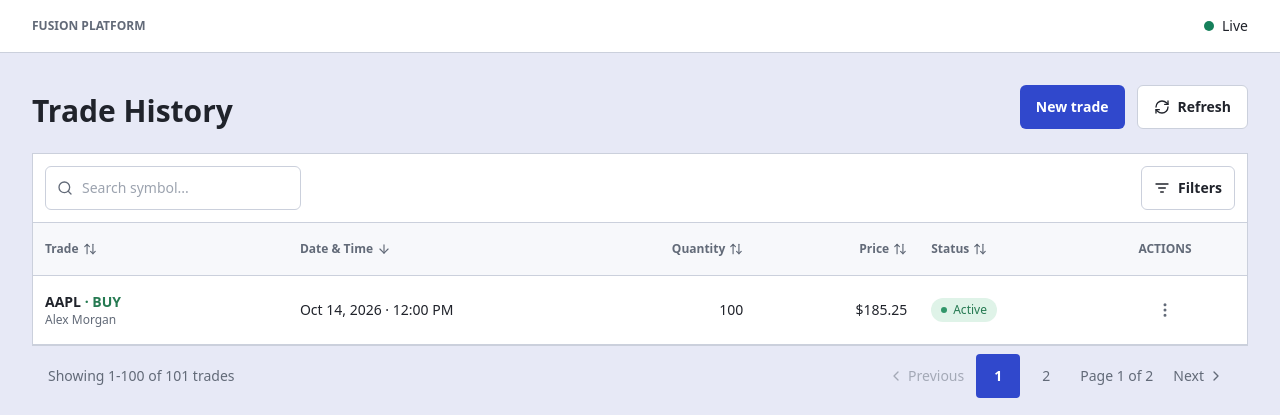
Scenario: TradeHistoryPage › clamps a stale requested page to the last valid page
Expected: the text "AAPL" is shown, [45,292,81,311]
Click the button with aria-label "Next page": x=1199, y=376 [1165,354,1232,398]
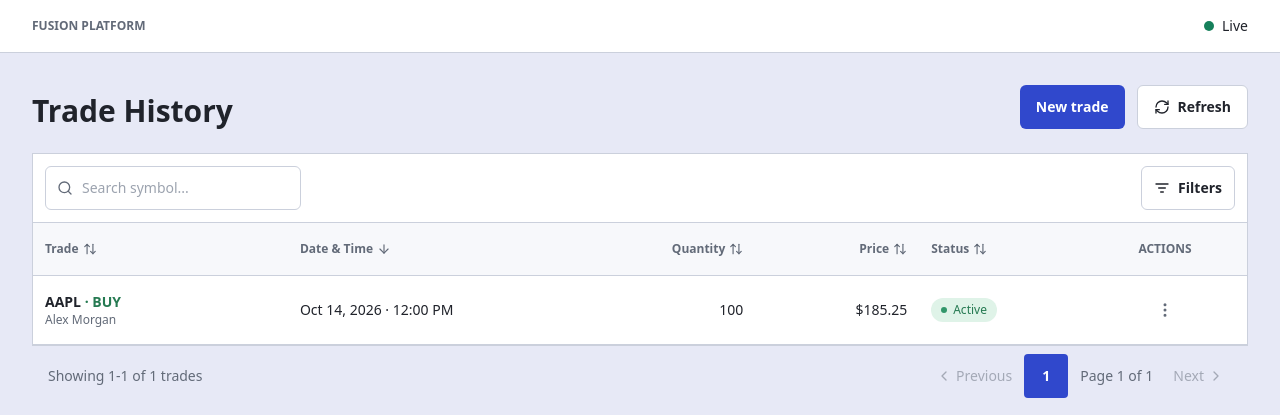
Result: the text "Page 1 of 1" is shown at [1080,366,1153,385]
